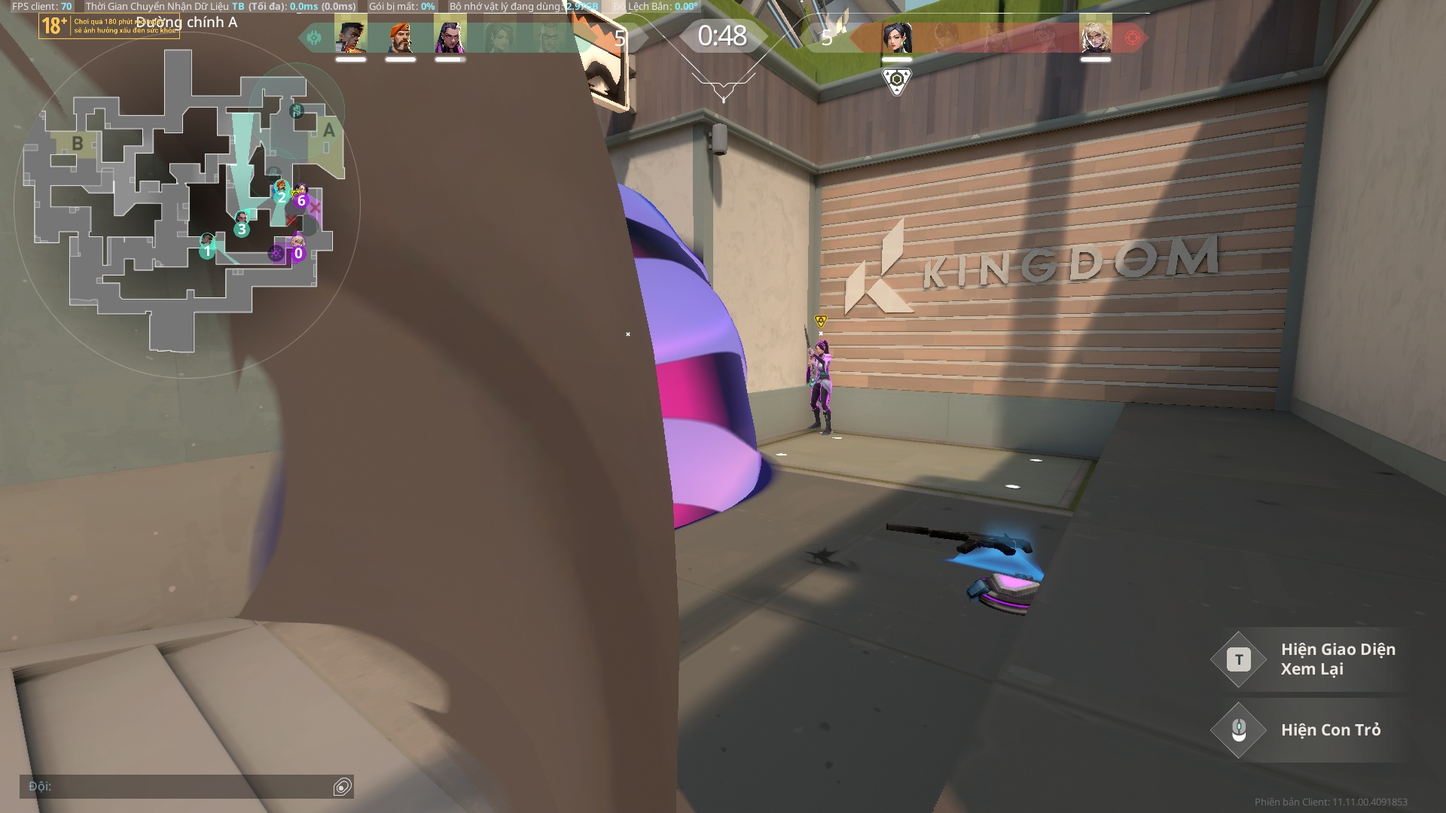body: (814, 352, 831, 376)
head: (815, 340, 824, 353)
